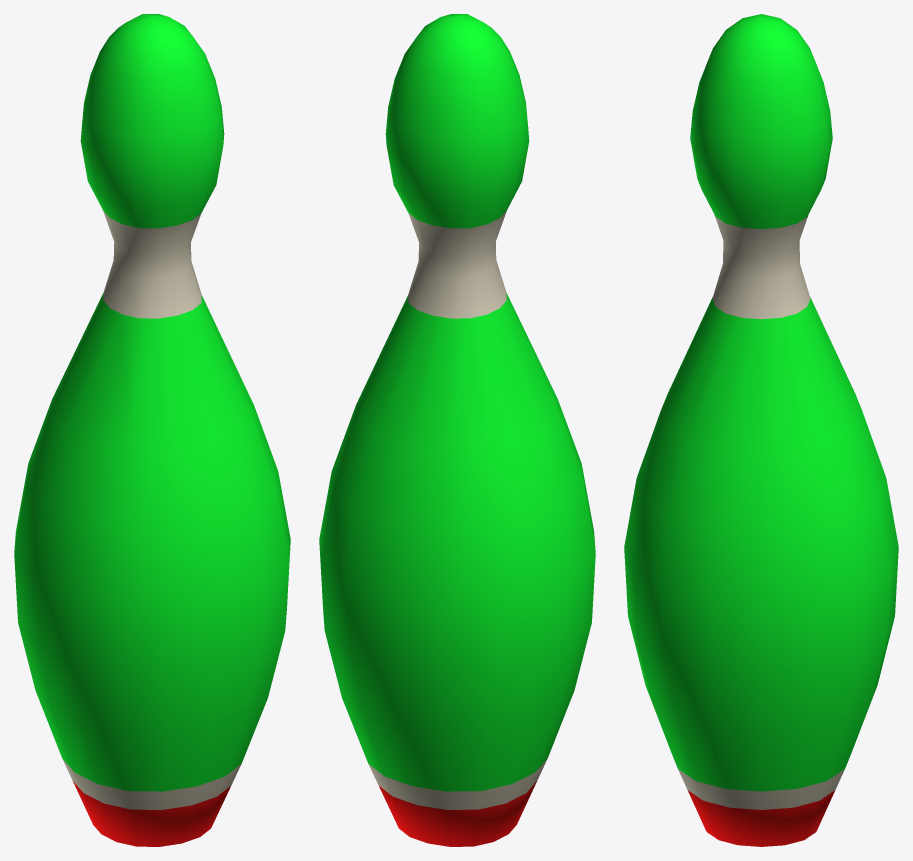
Rendered from pin_green.gltf.
3 views of the same model, side by side, from view 1: azimuth 30°, elevation 25°; view 2: azimuth 150°, elevation 25°; view 3: azimuth 270°, elevation 25° (orthographic).
Parts seen in each view (by area): view 1: pin.004; view 2: pin.004; view 3: pin.004.
Part boxes in pixels (box(x1,y1,x2,y2)): pin.004: box(14, 14, 290, 846); pin.004: box(319, 14, 595, 846); pin.004: box(624, 14, 898, 846).
Bounding box in the file's own units: 0.1176 × 0.38 × 0.1176.
1 material, 1 textured.
